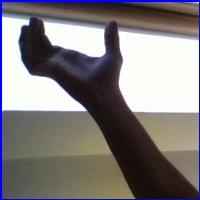space: (19, 11, 141, 103)
